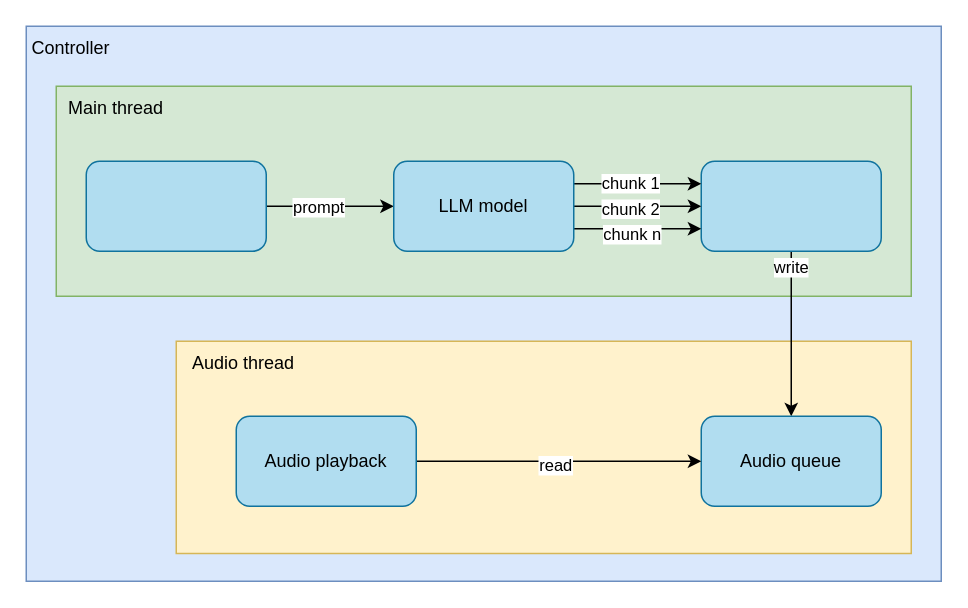
The diagram is 968 pixels wide and 608 high, and some of its shapes have lost their labels. The shapes that lost their labels are listed below. From the top down, each one's centre as x and y in pixels, then its label:
At pixel 175 205: "Speech to Text".
At pixel 790 205: "Text to Speech".
